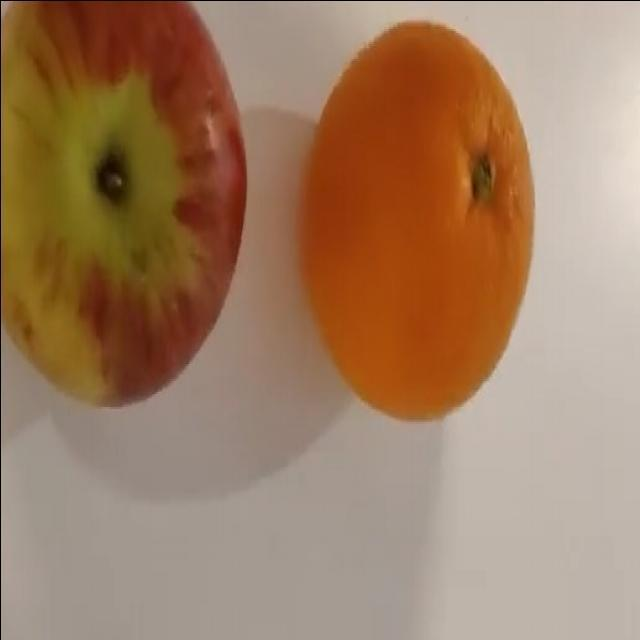Apple: (1, 0, 248, 408)
Orange: (297, 18, 535, 422)
